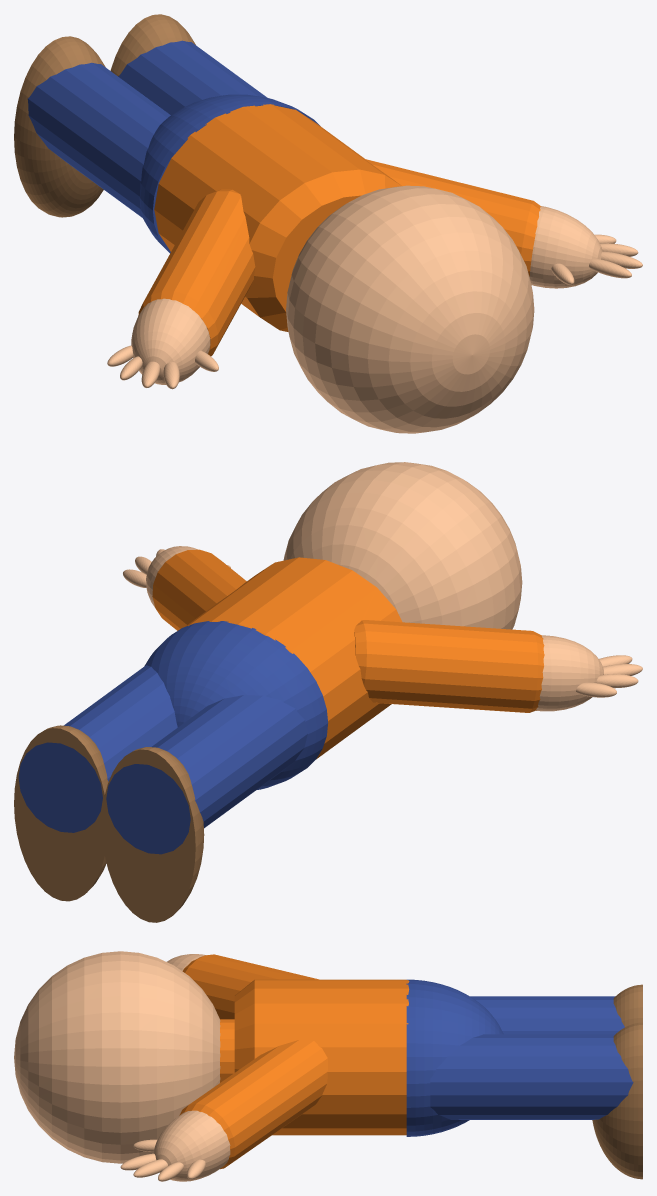
File: hello.obj
3 renders of one model, top to bottom at view 1: azimuth 30°, elevation 25°; view 2: azimuth 150°, elevation 25°; view 3: azimuth 270°, elevation 25°, orthographic. The views are drawn at different scales.
Parts seen in each view (by area): view 1: group_0_16500122, group_0_16089887, group_0_3888547, group_0_11107152; view 2: group_0_3888547, group_0_16089887, group_0_16500122, group_0_11107152; view 3: group_0_16500122, group_0_16089887, group_0_3888547, group_0_11107152.
Part boxes in pixels (x1=…): group_0_16500122: x1=107, y1=185, x2=642, y2=433; group_0_16089887: x1=138, y1=104, x2=540, y2=356; group_0_3888547: x1=27, y1=40, x2=319, y2=253; group_0_11107152: x1=14, y1=14, x2=195, y2=217; group_0_3888547: x1=18, y1=621, x2=327, y2=854; group_0_16089887: x1=152, y1=549, x2=544, y2=759; group_0_16500122: x1=123, y1=462, x2=642, y2=711; group_0_11107152: x1=14, y1=725, x2=204, y2=922; group_0_16500122: x1=14, y1=951, x2=230, y2=1181; group_0_16089887: x1=179, y1=954, x2=409, y2=1169; group_0_3888547: x1=406, y1=979, x2=633, y2=1136; group_0_11107152: x1=592, y1=984, x2=642, y2=1179.
Bounding box in the file's own units: 26.83 × 11.35 × 32.92.
